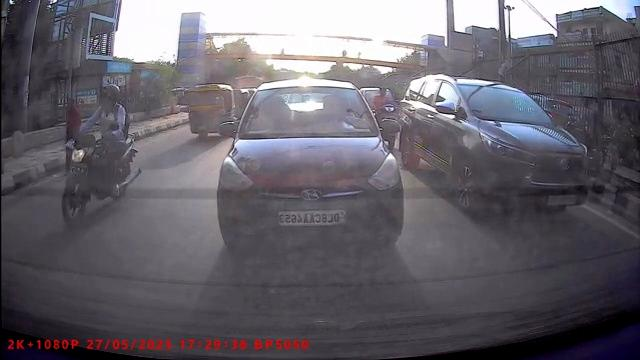motorcycle_with_helmet: (59, 81, 140, 228)
